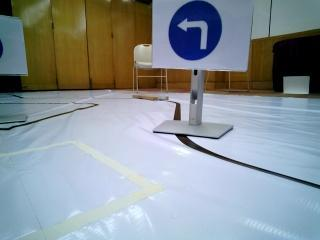left: (155, 3, 234, 65)
